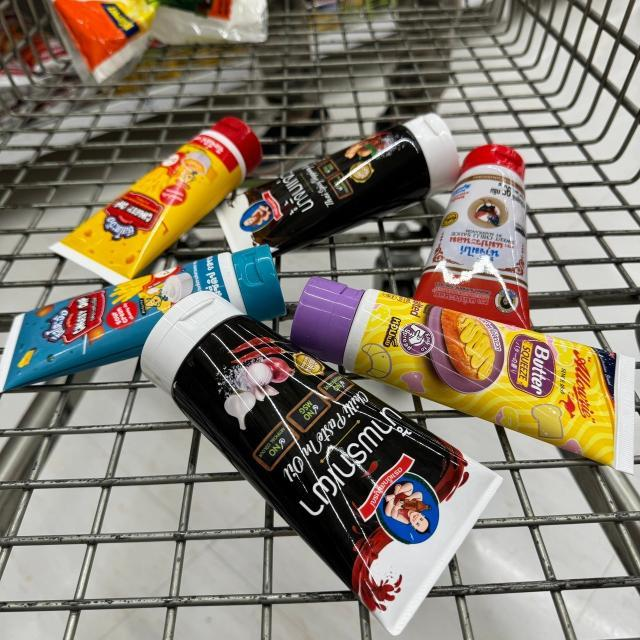Squeeze Tube: (130, 288, 510, 639), (287, 270, 637, 468), (0, 242, 290, 394), (202, 100, 466, 255), (43, 110, 271, 280), (412, 131, 535, 326)
